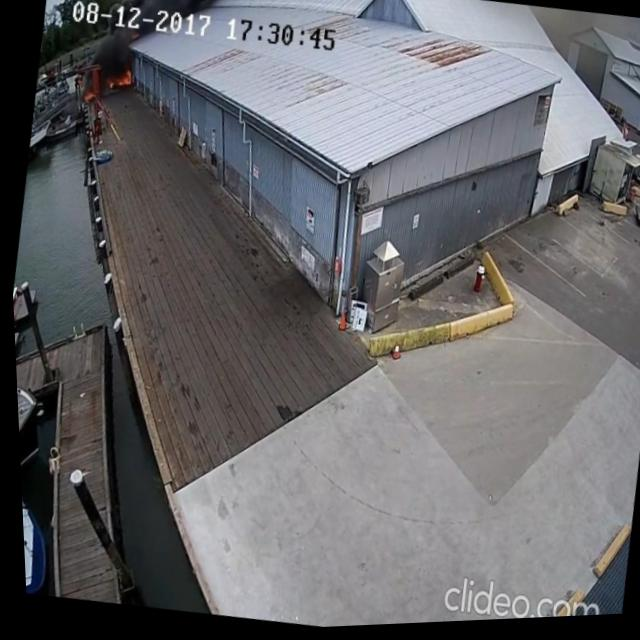fire: (104, 63, 135, 94), (81, 89, 95, 104)
